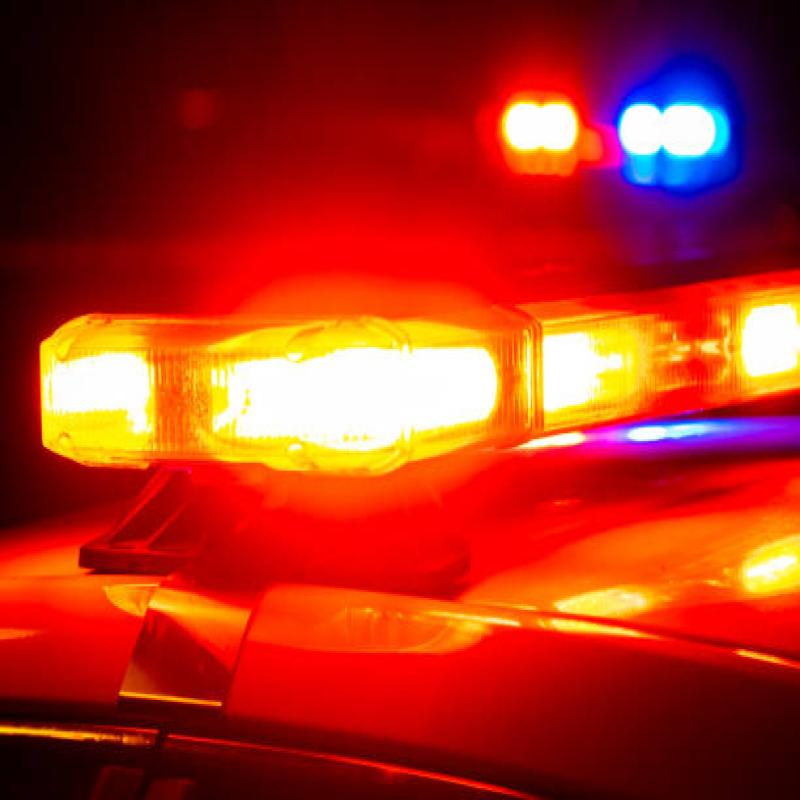AmbulanceSiren: (27, 204, 785, 526)
